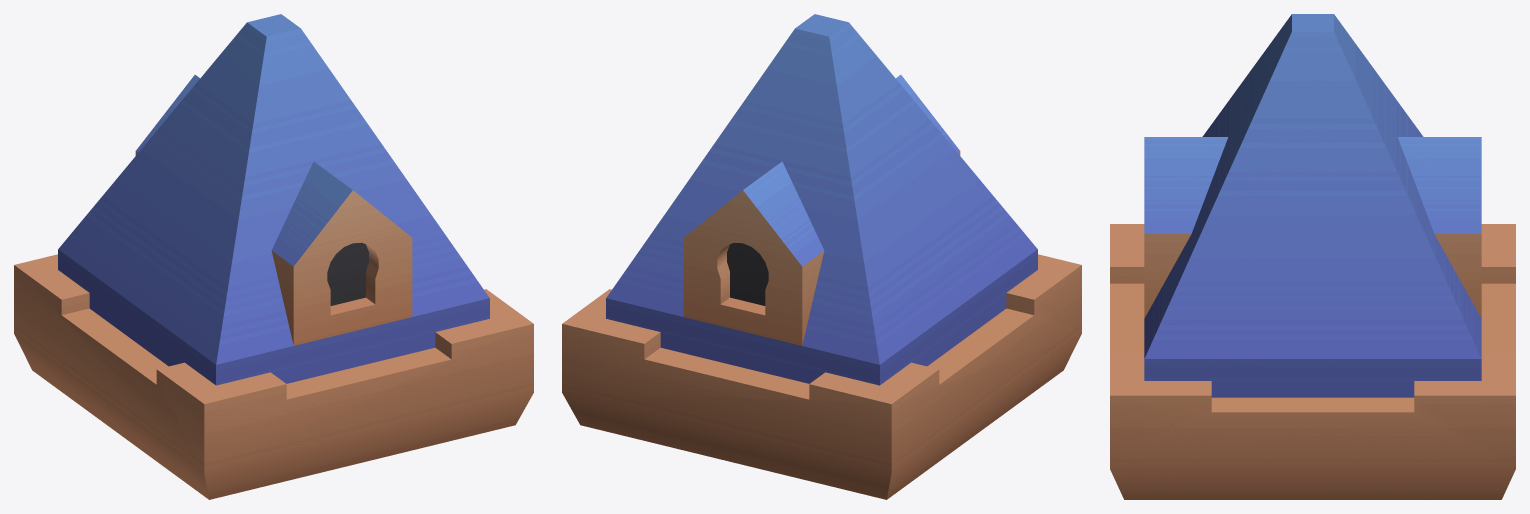
Rendered from tower-square-top-roof-high-windows.glb.
3 views of the same model, side by side, from view 1: azimuth 30°, elevation 25°; view 2: azimuth 150°, elevation 25°; view 3: azimuth 270°, elevation 25° (orthographic). The views are drawn at different scales.
Parts seen in each view (by area): view 1: tower-square-top-roof-high-windows; view 2: tower-square-top-roof-high-windows; view 3: tower-square-top-roof-high-windows.
Boxes of the visible parts, bbox=[...] form: tower-square-top-roof-high-windows: bbox=[14, 14, 533, 499]; tower-square-top-roof-high-windows: bbox=[562, 14, 1081, 499]; tower-square-top-roof-high-windows: bbox=[1110, 14, 1515, 499].
Bounding box in the file's own units: 1 × 1.08 × 1.
Materials: 1 (1 with a texture image).
